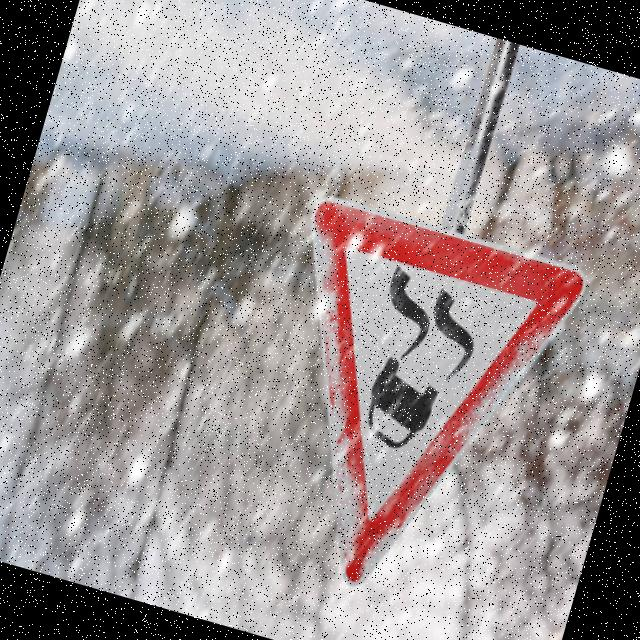road_slippery: (210, 183, 598, 638)
